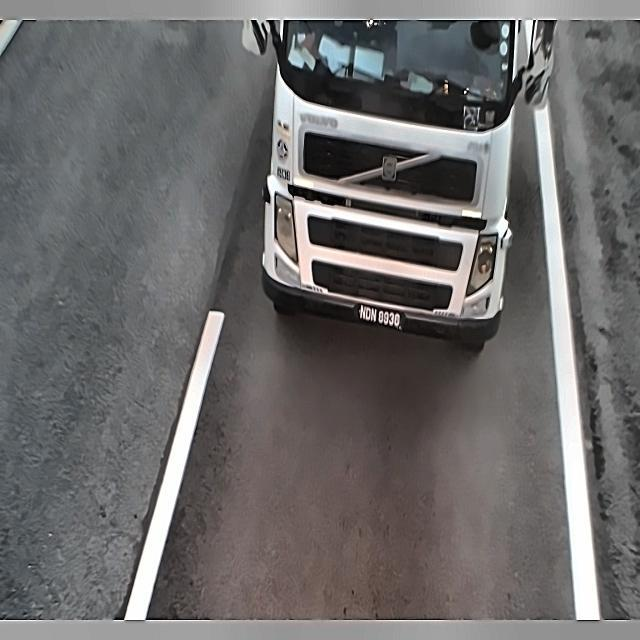car: (352, 295, 407, 335)
